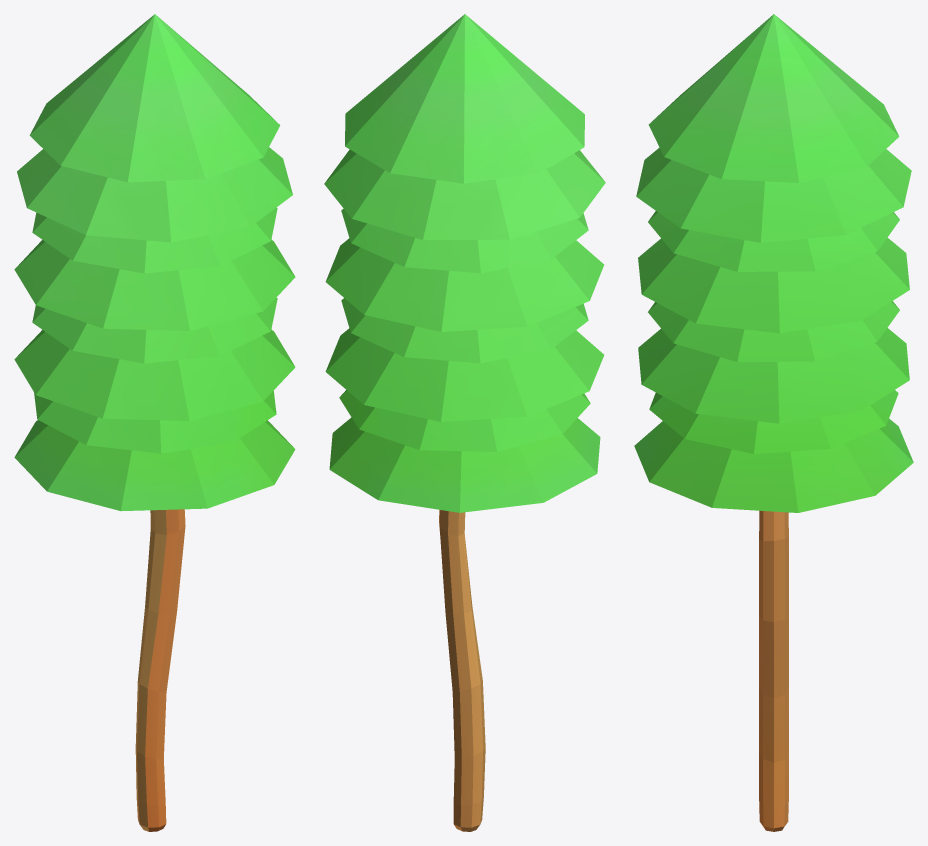
The model's file is Tree_3.fbx.
The picture shows the model from 3 angles, left to right: view 1: azimuth 30°, elevation 25°; view 2: azimuth 150°, elevation 25°; view 3: azimuth 270°, elevation 25°; orthographic projection.
Parts seen in each view (by area): view 1: Tree_3; view 2: Tree_3; view 3: Tree_3.
Boxes of the visible parts, x1=… form: Tree_3: x1=14, y1=14, x2=295, y2=831; Tree_3: x1=324, y1=14, x2=605, y2=831; Tree_3: x1=634, y1=14, x2=913, y2=831.
Size of the model in its own units: 93.64 by 299 by 92.78.
1 material, 1 textured.
